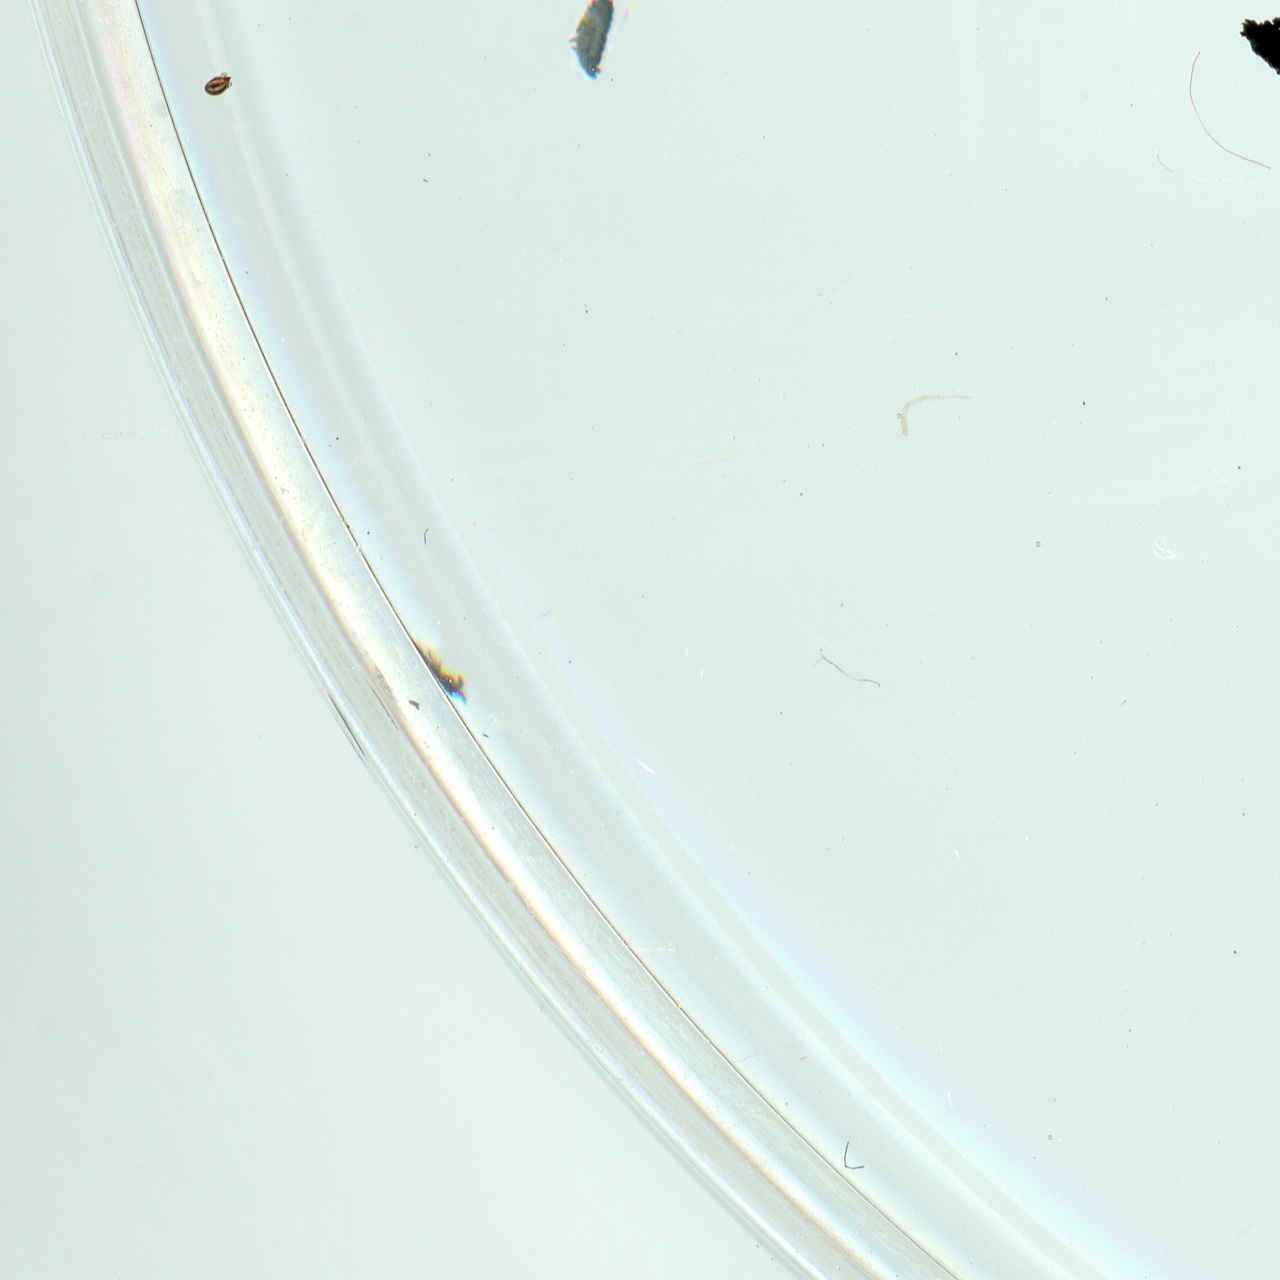arthropod: (563, 0, 624, 87), (201, 71, 234, 98)
